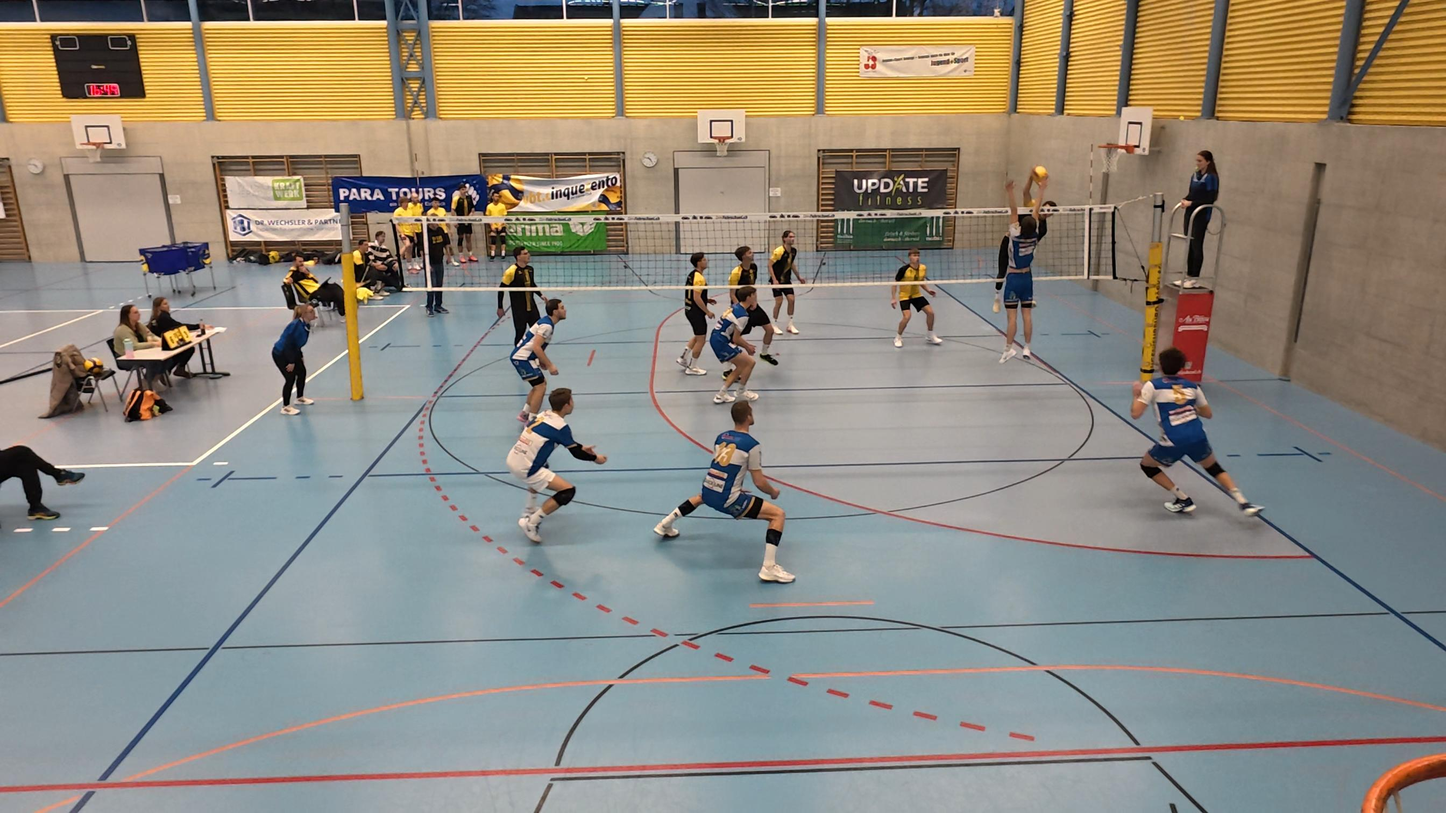attacco: (984, 163, 1056, 300)
muro: (996, 178, 1054, 365)
